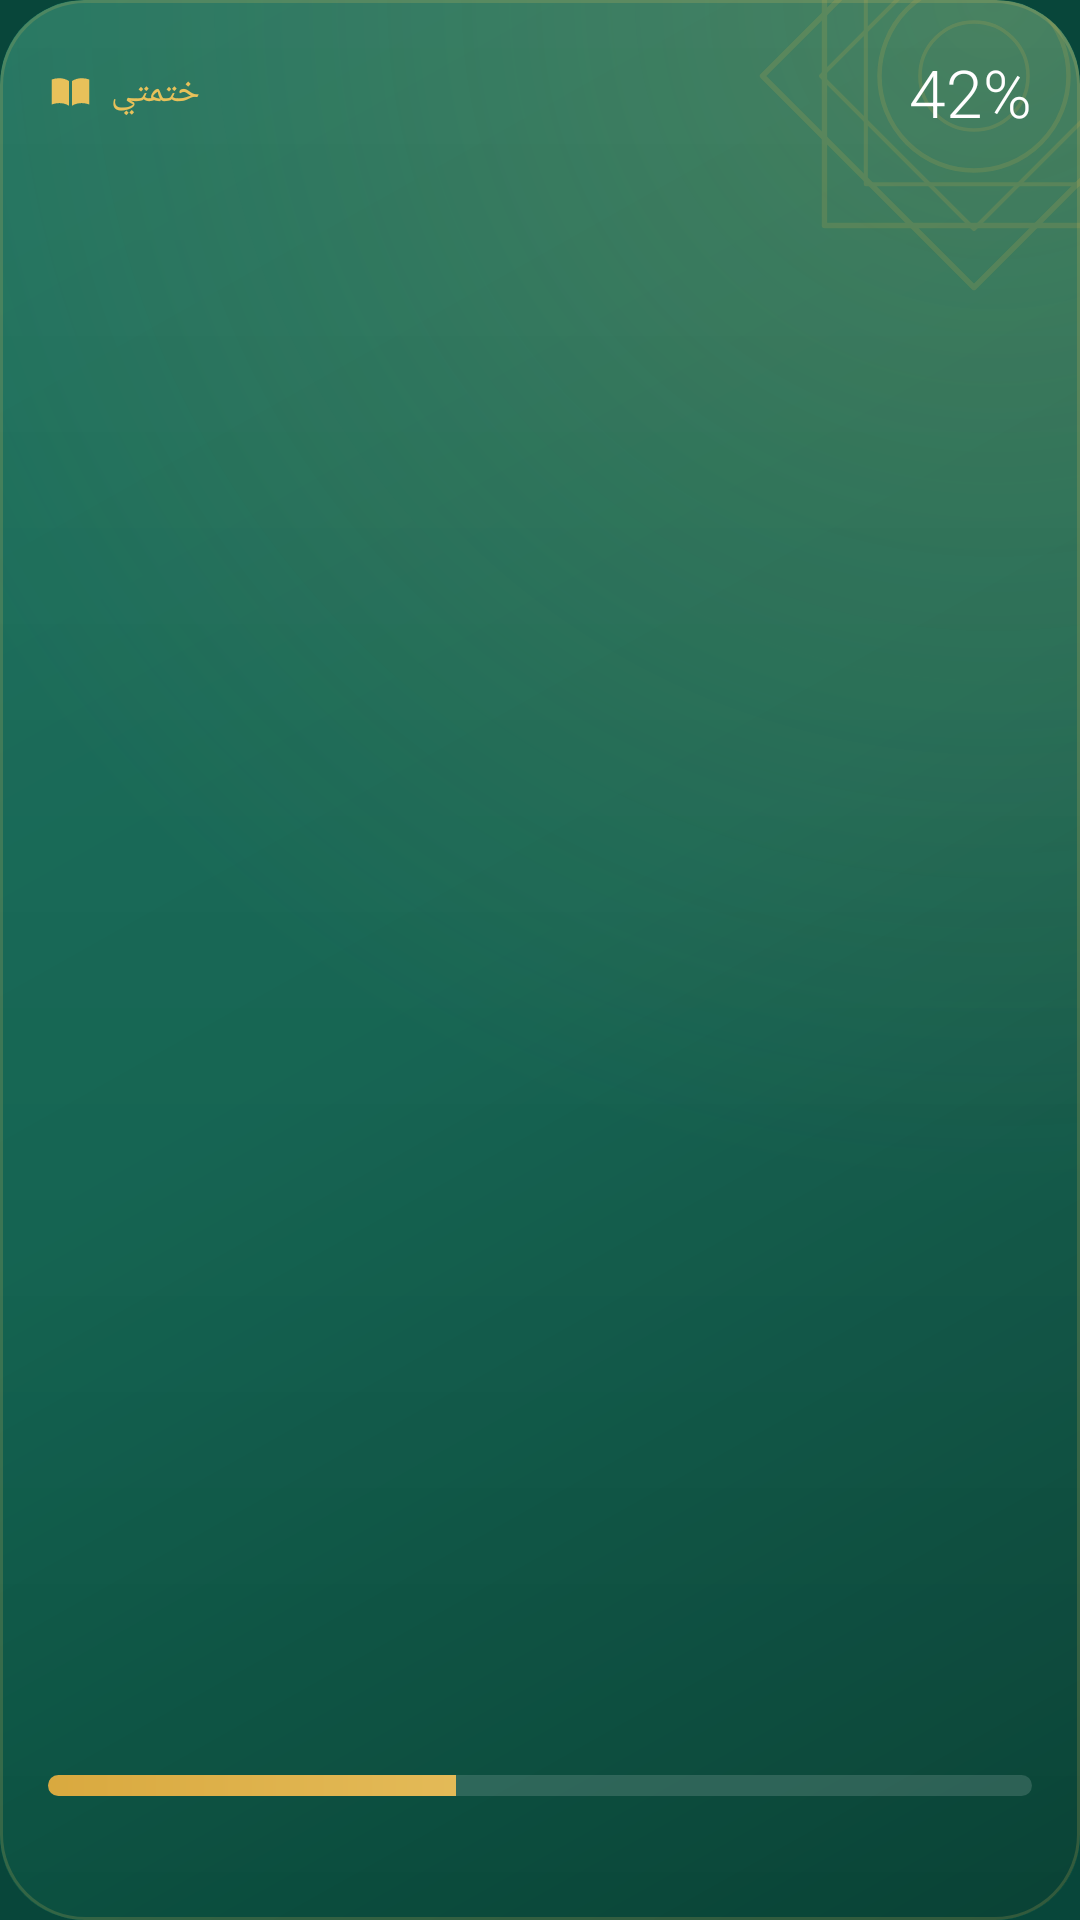

Icon click points for this 1080px×1920px phone screenshot, format point (x, y):
book: point (70, 92)
